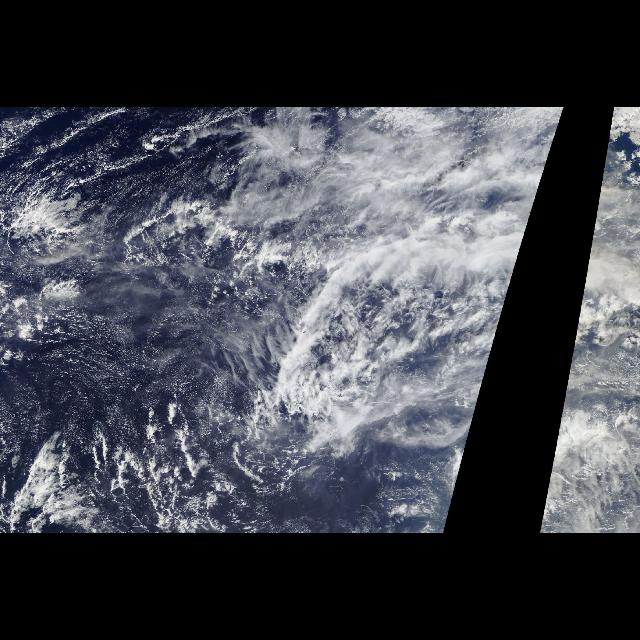Fish: (9, 182, 341, 302)
Sugar: (8, 246, 255, 477)
